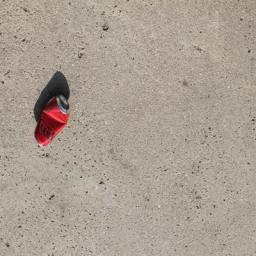FOD: (30, 70, 76, 151)
